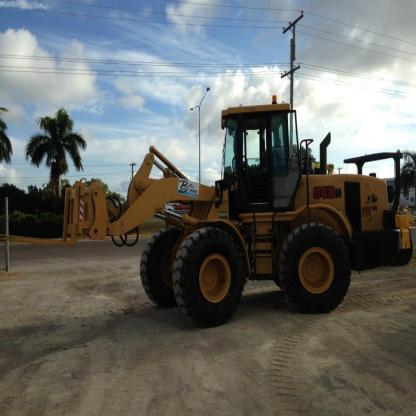bull_dozer/loader/grader: (64, 78, 410, 359)
